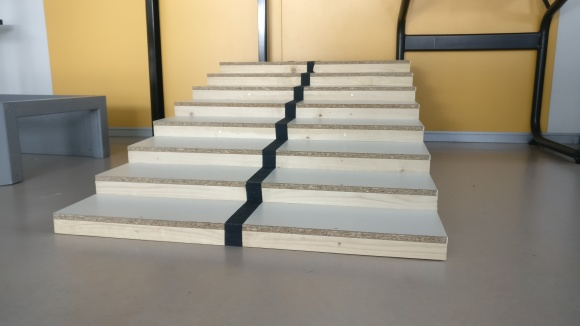stairs: (50, 61, 449, 265)
